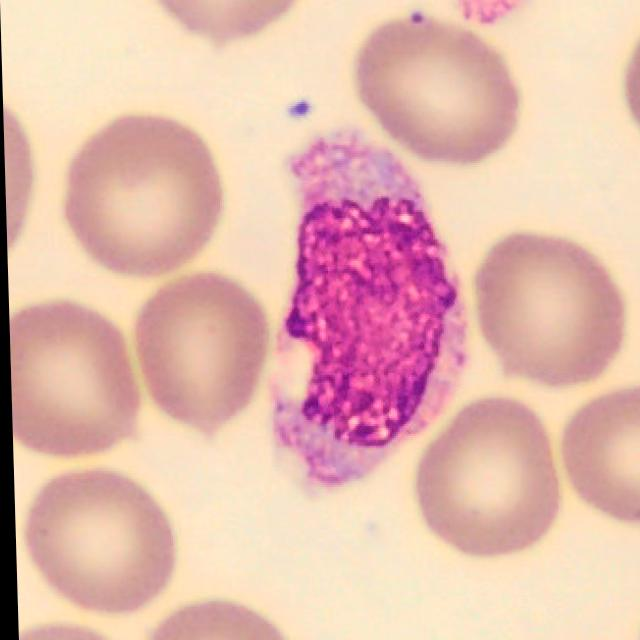Monocito: (271, 133, 463, 481)
